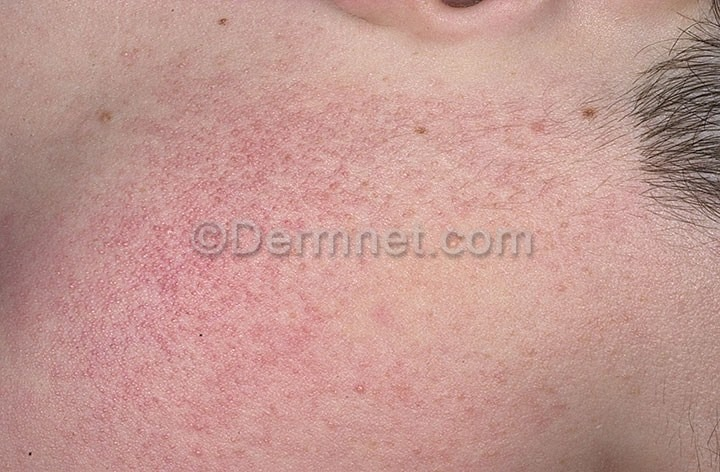Eczema: (24, 27, 642, 472)
